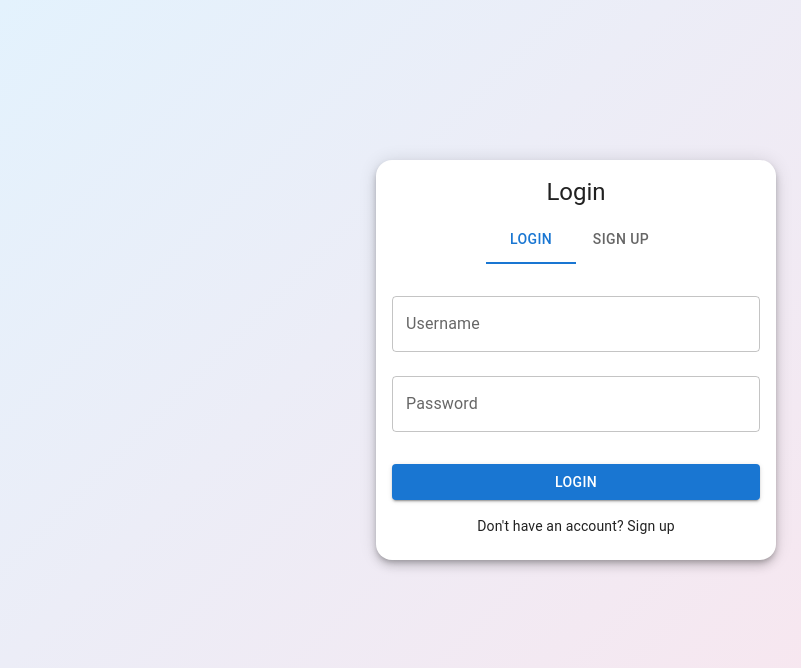
it: Login Component › Tab Switching › should change title to Sign Up when Sign Up tab is clicked
Click the tab "Sign Up" at (621, 240), box [576,216,666,264]
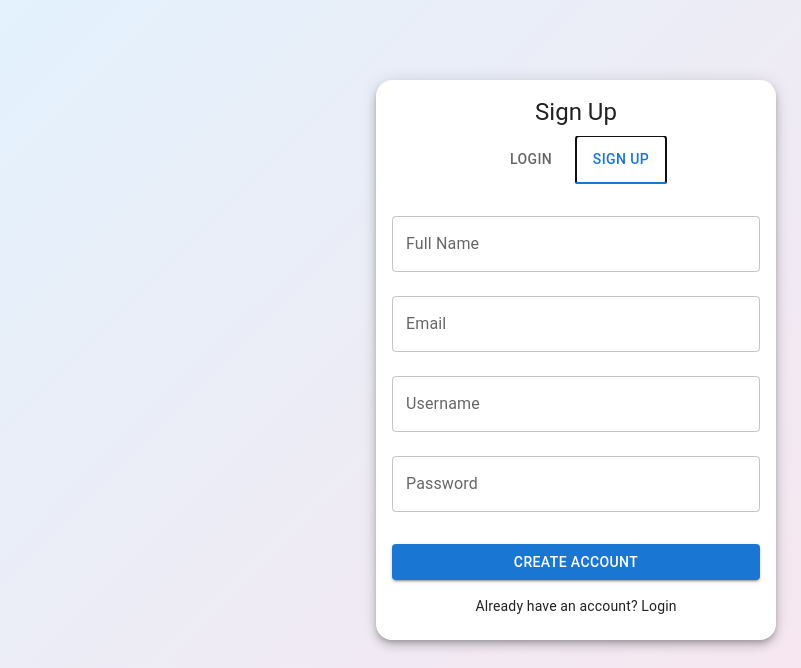
Expected: the heading "Sign Up" is shown, [535,98,617,126]
